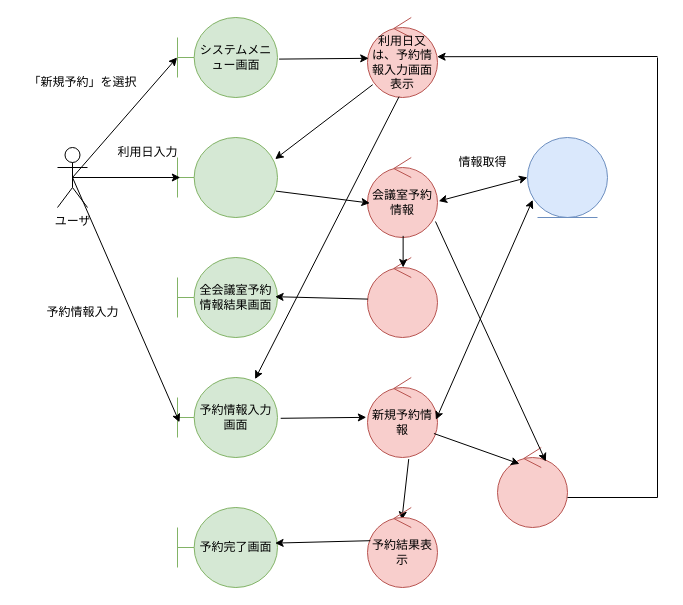
Some shapes in this 683 by 605 pixel diagram are drawn without their labels. The centre of each missing label's shape, as x and y in pixels:
"エラーメッセージ表示" goes at pixel 532 487.
"予約情報表示" goes at pixel 402 297.
"会議室予約システム" goes at pixel 567 177.
"利用日の入力画面" goes at pixel 227 177.
